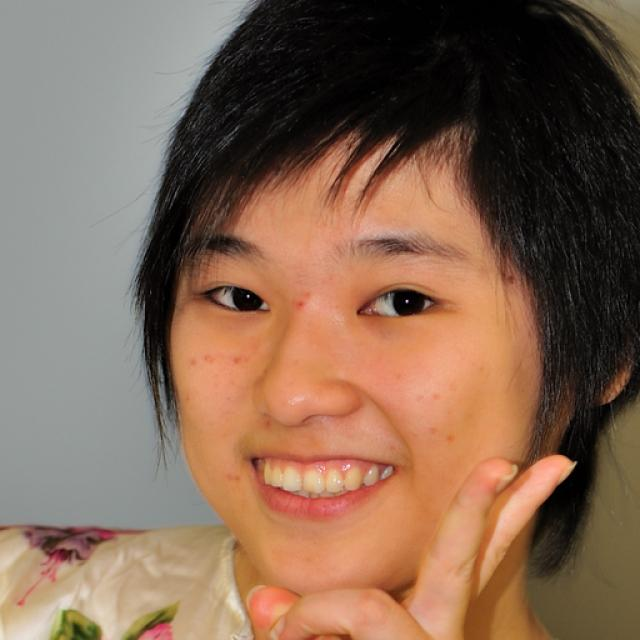Acne: (254, 410, 278, 438), (288, 300, 312, 322)
Spots: (413, 379, 459, 409), (420, 421, 463, 450), (212, 466, 246, 489), (185, 353, 220, 370), (222, 352, 254, 370)
